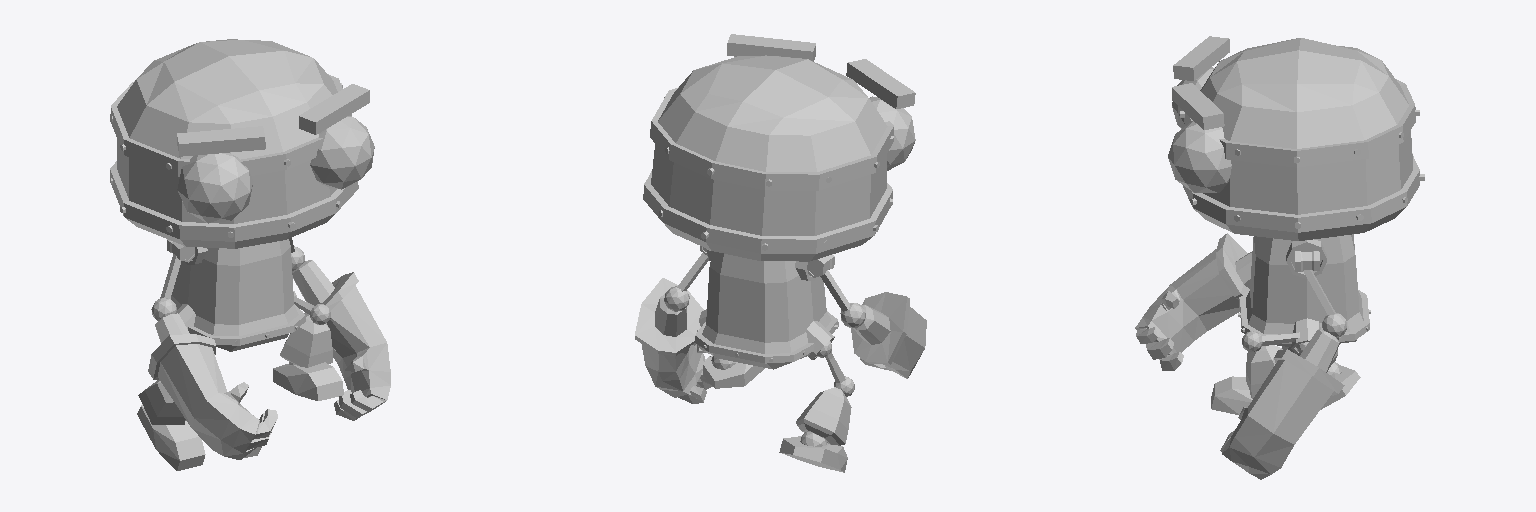
Rendered from Robot_000020.obj.
3 renders of one model, left to right at view 1: azimuth 30°, elevation 25°; view 2: azimuth 150°, elevation 25°; view 3: azimuth 270°, elevation 25°, orthographic.
Visible parts, largest first — view 1: Head_Cylinder, Torso_Cube.001, Hand.R_Cylinder.015, Hand.L_Cylinder.022, Foot.R_Cylinder.017, Foot.L_Cylinder.014, LowerLeg.L_Cylinder.012, LowerLeg.R_Cylinder.018, Arm.R_Cylinder.013, Leg.L_Cylinder.011; view 2: Head_Cylinder, Torso_Cube.001, Hand.L_Cylinder.022, Hand.R_Cylinder.015, LowerLeg.R_Cylinder.018, Foot.R_Cylinder.017, Foot.L_Cylinder.014, Arm.R_Cylinder.013, Arm.L_Cylinder.010; view 3: Head_Cylinder, Torso_Cube.001, Hand.L_Cylinder.022, Hand.R_Cylinder.015, Foot.L_Cylinder.014, LowerLeg.L_Cylinder.012, Arm.L_Cylinder.010, Leg.L_Cylinder.011.
Part boxes in pixels (bbox=[...]): Head_Cylinder: bbox=[110, 39, 374, 248]; Torso_Cube.001: bbox=[171, 239, 305, 351]; Hand.R_Cylinder.015: bbox=[148, 313, 277, 459]; Hand.L_Cylinder.022: bbox=[292, 260, 390, 420]; Foot.R_Cylinder.017: bbox=[137, 404, 205, 470]; Foot.L_Cylinder.014: bbox=[273, 362, 343, 400]; LowerLeg.L_Cylinder.012: bbox=[280, 313, 332, 367]; LowerLeg.R_Cylinder.018: bbox=[138, 380, 185, 424]; Arm.R_Cylinder.013: bbox=[151, 254, 180, 320]; Leg.L_Cylinder.011: bbox=[294, 296, 330, 324]; Head_Cylinder: bbox=[643, 34, 915, 261]; Torso_Cube.001: bbox=[695, 249, 838, 369]; Hand.L_Cylinder.022: bbox=[635, 278, 712, 403]; Hand.R_Cylinder.015: bbox=[851, 292, 926, 378]; LowerLeg.R_Cylinder.018: bbox=[796, 387, 851, 446]; Foot.R_Cylinder.017: bbox=[779, 436, 847, 472]; Foot.L_Cylinder.014: bbox=[703, 355, 764, 388]; Arm.R_Cylinder.013: bbox=[820, 270, 865, 327]; Arm.L_Cylinder.010: bbox=[664, 253, 708, 311]; Head_Cylinder: bbox=[1168, 36, 1424, 240]; Torso_Cube.001: bbox=[1238, 234, 1370, 354]; Hand.L_Cylinder.022: bbox=[1220, 329, 1344, 479]; Hand.R_Cylinder.015: bbox=[1135, 233, 1251, 370]; Foot.L_Cylinder.014: bbox=[1211, 376, 1252, 414]; LowerLeg.L_Cylinder.012: bbox=[1246, 345, 1282, 398]; Arm.L_Cylinder.010: bbox=[1303, 270, 1346, 337]; Leg.L_Cylinder.011: bbox=[1242, 331, 1299, 351].
Bounding box in the file's own units: 2.91 × 4.48 × 2.98.